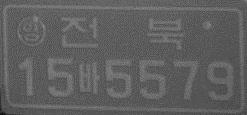1: (16, 56, 42, 98)
5: (137, 58, 167, 100), (46, 56, 75, 98), (104, 58, 133, 99)
7: (172, 59, 199, 100)
9: (206, 61, 235, 102)
바: (78, 61, 100, 94)
영: (15, 15, 47, 47)
전북_D: (60, 15, 184, 51)
